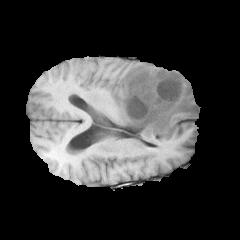glioma: (110, 66, 200, 137)
